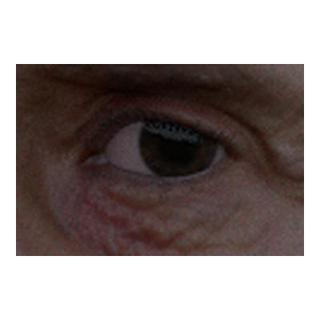pupil: (159, 124, 196, 161)
